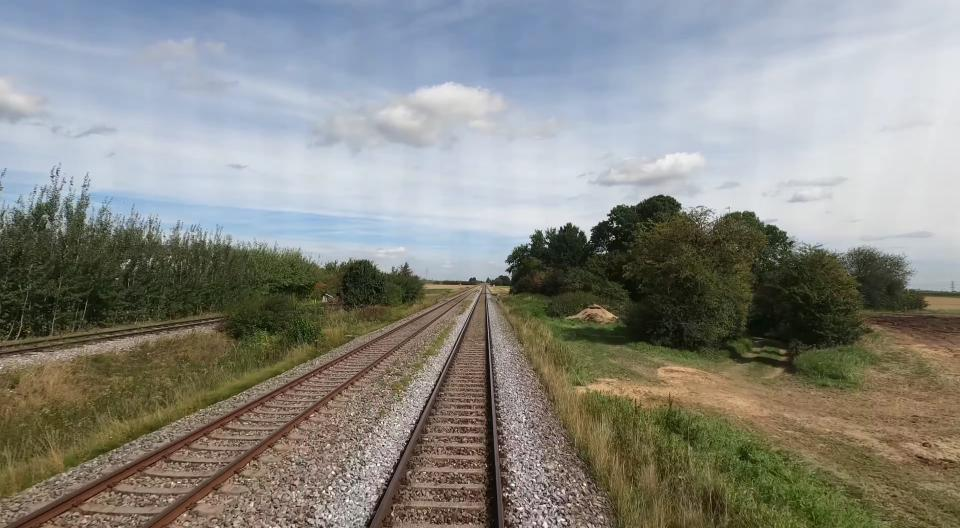Plant: (424, 324, 453, 355), (393, 371, 413, 384), (458, 300, 474, 315), (391, 381, 408, 394), (412, 362, 423, 371), (380, 410, 386, 415)
